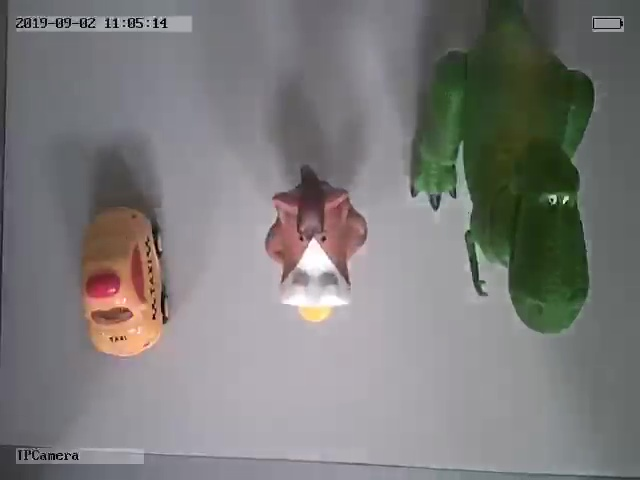car: (77, 206, 171, 359)
horse: (264, 165, 369, 324)
rex: (409, 2, 595, 334)
